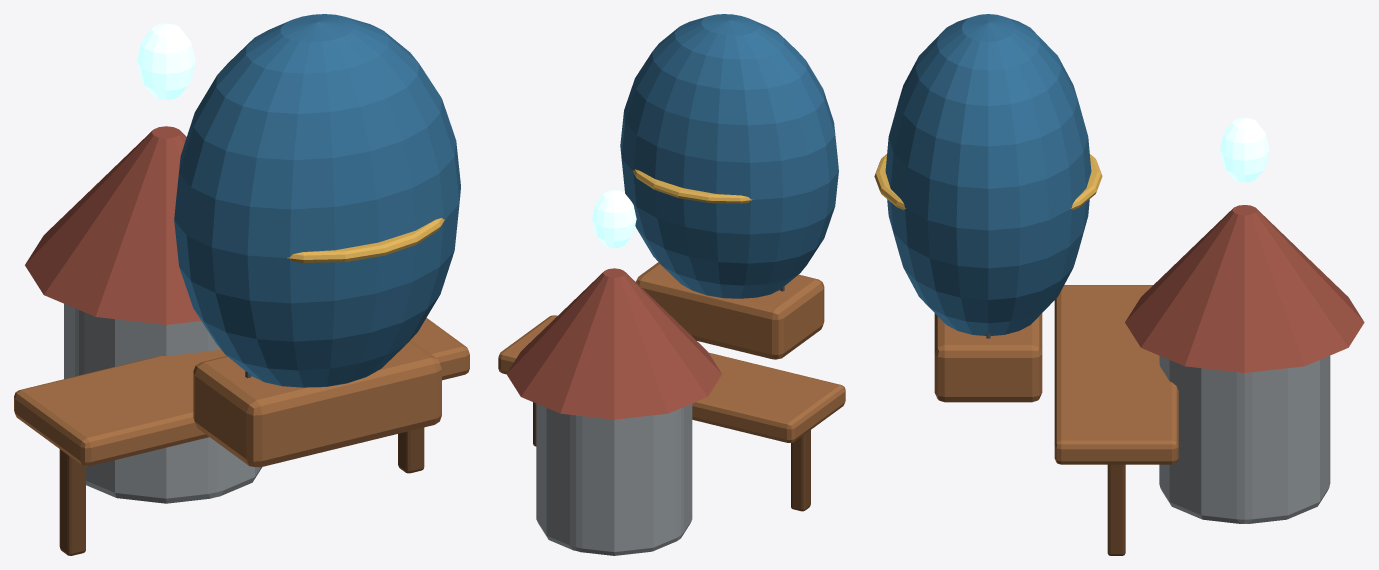
Rendered from RF_Building_TravelDock_V2.fbx.
3 renders of one model, left to right at view 1: azimuth 30°, elevation 25°; view 2: azimuth 150°, elevation 25°; view 3: azimuth 270°, elevation 25°, orthographic. The views are drawn at different scales.
Parts seen in each view (by area): view 1: Travel_Balloon.001, Travel_Roof.001, Travel_Gondola.001, Travel_Platform.001, Travel_Tower.001, Travel_Beacon.001, Travel_Post.002, Travel_BalloonBand.001, Travel_Post.003; view 2: Travel_Balloon.001, Travel_Tower.001, Travel_Roof.001, Travel_Gondola.001, Travel_Platform.001, Travel_Beacon.001, Travel_Post.002, Travel_BalloonBand.001; view 3: Travel_Balloon.001, Travel_Roof.001, Travel_Tower.001, Travel_Platform.001, Travel_Gondola.001, Travel_Beacon.001, Travel_Post.003, Travel_BalloonBand.001.
Boxes of the visible parts, x1=… form: Travel_Balloon.001: x1=174, y1=14, x2=460, y2=387; Travel_Roof.001: x1=25, y1=126, x2=201, y2=324; Travel_Gondola.001: x1=193, y1=339, x2=441, y2=467; Travel_Platform.001: x1=14, y1=318, x2=469, y2=466; Travel_Tower.001: x1=64, y1=304, x2=262, y2=503; Travel_Beacon.001: x1=137, y1=23, x2=195, y2=99; Travel_Post.002: x1=59, y1=449, x2=85, y2=555; Travel_BalloonBand.001: x1=287, y1=218, x2=444, y2=262; Travel_Post.003: x1=398, y1=427, x2=424, y2=473; Travel_Balloon.001: x1=620, y1=14, x2=838, y2=298; Travel_Tower.001: x1=536, y1=403, x2=692, y2=555; Travel_Roof.001: x1=506, y1=268, x2=721, y2=419; Travel_Gondola.001: x1=636, y1=262, x2=824, y2=359; Travel_Platform.001: x1=498, y1=315, x2=845, y2=442; Travel_Beacon.001: x1=592, y1=190, x2=636, y2=248; Travel_Post.002: x1=791, y1=430, x2=810, y2=511; Travel_BalloonBand.001: x1=633, y1=169, x2=752, y2=203; Travel_Balloon.001: x1=885, y1=14, x2=1091, y2=335; Travel_Roof.001: x1=1125, y1=205, x2=1364, y2=372; Travel_Tower.001: x1=1159, y1=355, x2=1330, y2=523; Travel_Platform.001: x1=1054, y1=285, x2=1178, y2=464; Travel_Gondola.001: x1=934, y1=313, x2=1042, y2=402; Travel_Beacon.001: x1=1220, y1=117, x2=1269, y2=182; Travel_Post.003: x1=1107, y1=464, x2=1125, y2=555; Travel_BalloonBand.001: x1=874, y1=154, x2=1102, y2=209.
Bounding box in the file's own units: 4.6 × 5.93 × 6.25.
